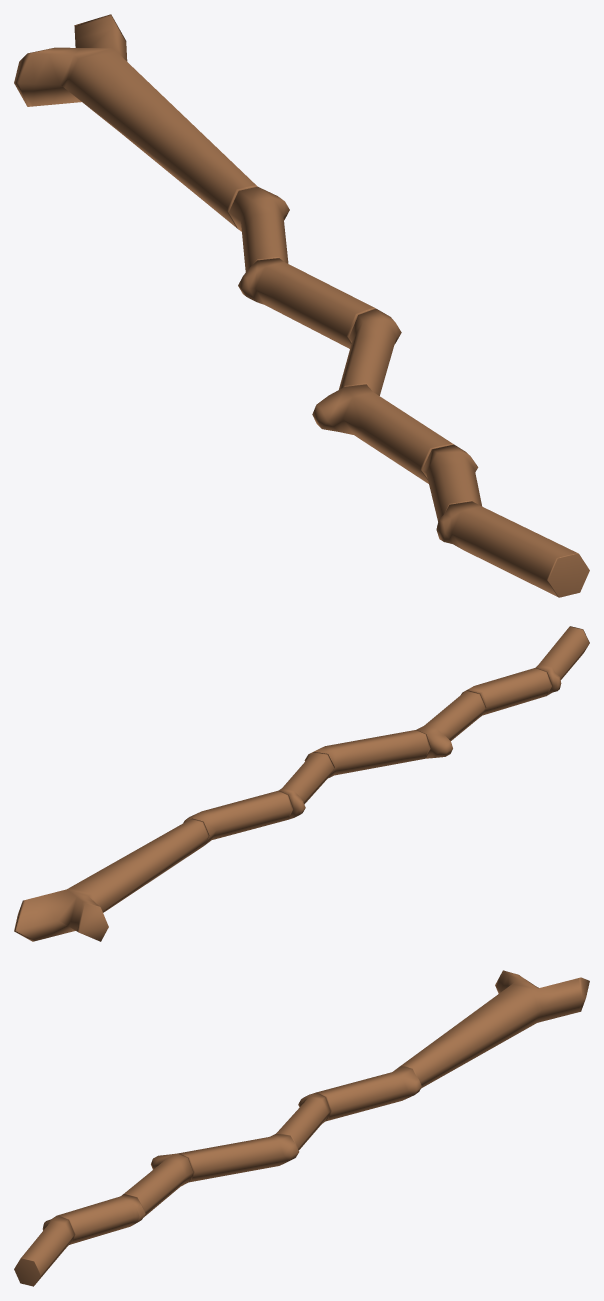
File: StickZigZag_Export.fbx
3 renders of one model, top to bottom at view 1: azimuth 30°, elevation 25°; view 2: azimuth 150°, elevation 25°; view 3: azimuth 330°, elevation 25°, orthographic. The views are drawn at different scales.
Visible parts, largest first — view 1: Stick_Bit_07, Stick_Bit_01, Stick_Bit_03, Stick_Bit_05, Stick_Bit_06, Stick_Bit_04, Stick_Bit_02; view 2: Stick_Bit_07, Stick_Bit_04, Stick_Bit_06, Stick_Bit_02, Stick_Bit_03, Stick_Bit_05, Stick_Bit_01; view 3: Stick_Bit_07, Stick_Bit_04, Stick_Bit_06, Stick_Bit_02, Stick_Bit_03, Stick_Bit_01, Stick_Bit_05.
Part boxes in pixels (bbox=[...]): Stick_Bit_07: bbox=[14, 14, 257, 228]; Stick_Bit_01: bbox=[436, 501, 589, 597]; Stick_Bit_03: bbox=[312, 384, 453, 483]; Stick_Bit_05: bbox=[238, 258, 375, 348]; Stick_Bit_06: bbox=[229, 186, 289, 272]; Stick_Bit_04: bbox=[339, 308, 401, 395]; Stick_Bit_02: bbox=[422, 444, 482, 521]; Stick_Bit_07: bbox=[14, 818, 209, 941]; Stick_Bit_04: bbox=[304, 730, 431, 778]; Stick_Bit_06: bbox=[183, 790, 293, 845]; Stick_Bit_02: bbox=[461, 667, 552, 717]; Stick_Bit_03: bbox=[416, 690, 486, 758]; Stick_Bit_05: bbox=[279, 752, 334, 819]; Stick_Bit_01: bbox=[536, 626, 589, 695]; Stick_Bit_07: bbox=[401, 970, 589, 1088]; Stick_Bit_04: bbox=[177, 1133, 299, 1182]; Stick_Bit_06: bbox=[316, 1066, 421, 1121]; Stick_Bit_02: bbox=[57, 1194, 145, 1244]; Stick_Bit_03: bbox=[124, 1153, 193, 1217]; Stick_Bit_01: bbox=[14, 1215, 74, 1286]; Stick_Bit_05: bbox=[276, 1092, 330, 1150].
Size of the model in its own units: 6.93 by 1.33 by 30.82.
